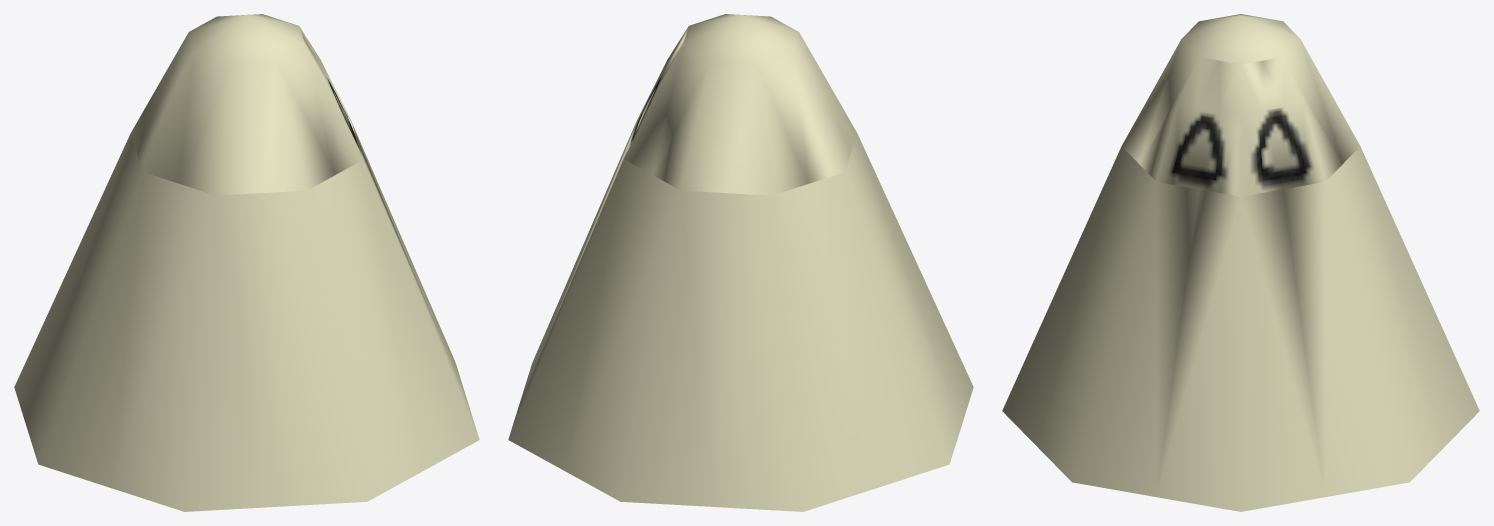
Rendered from hill7.dae.
3 views of the same model, side by side, from view 1: azimuth 30°, elevation 25°; view 2: azimuth 150°, elevation 25°; view 3: azimuth 270°, elevation 25° (orthographic).
Parts seen in each view (by area): view 1: Circle.001; view 2: Circle.001; view 3: Circle.001.
Part boxes in pixels (box(x1,y1,x2,y2)): Circle.001: box(14, 14, 479, 511); Circle.001: box(508, 14, 973, 511); Circle.001: box(1002, 14, 1479, 511).
Bounding box in the file's own units: 2.1 × 2.1 × 1.92.
1 material, 1 textured.
